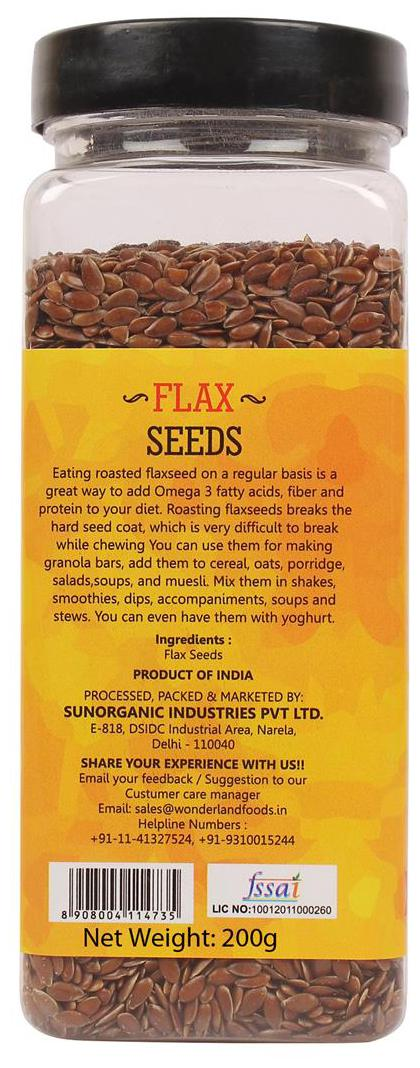fssai: (242, 872, 303, 903)
